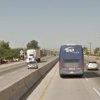Bus: (56, 39, 88, 78)
